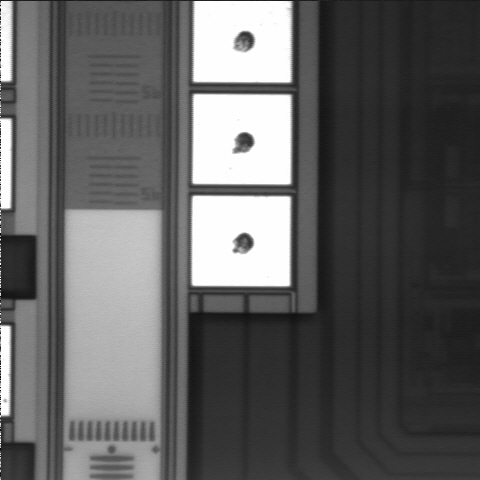pad: (193, 94, 291, 184), (192, 196, 290, 286)
